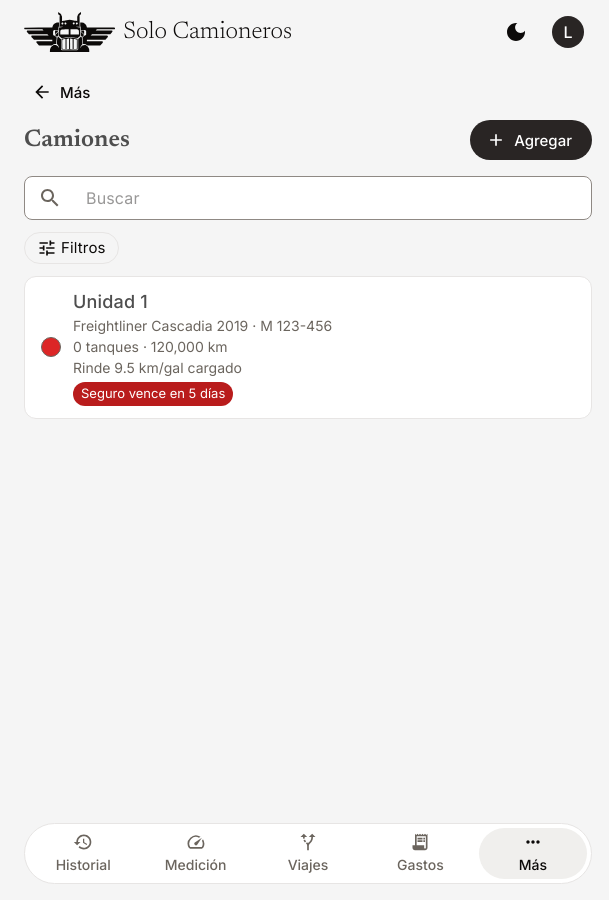
Test: trucks and trailers say when their insurance is due, not when archived
This screenshot has width=609, height=900.
Expected: the button with aria-label "Camión Unidad 1, Seguro vence en 5 días" is shown, x1=24 y1=276 x2=592 y2=419
Expected: the text "Seguro vencido" is not shown
Click the button "Más": (63, 92) x1=16 y1=72 x2=110 y2=112
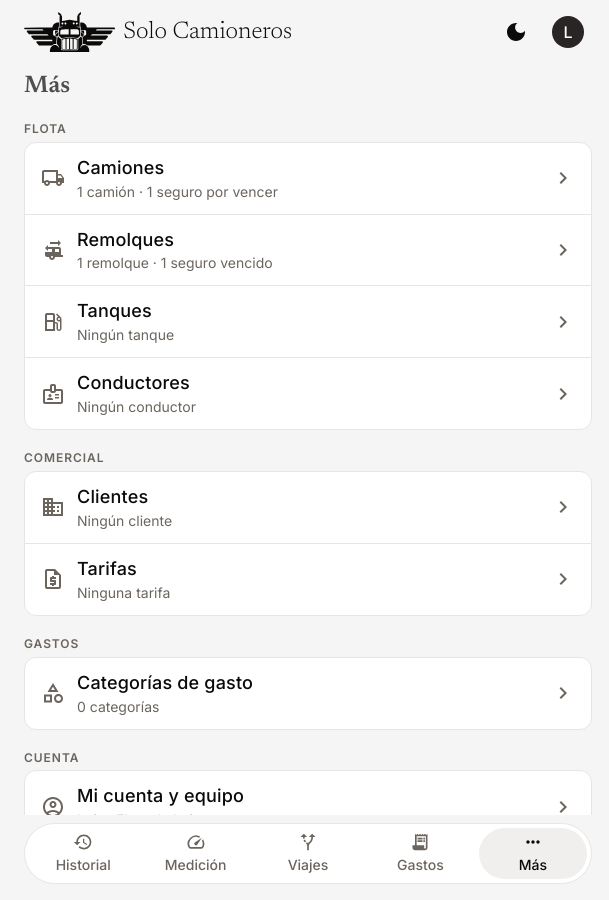
Click the link "Remolques 1 remolque · 1 seguro vencido": (126, 239) x1=25 y1=214 x2=591 y2=285
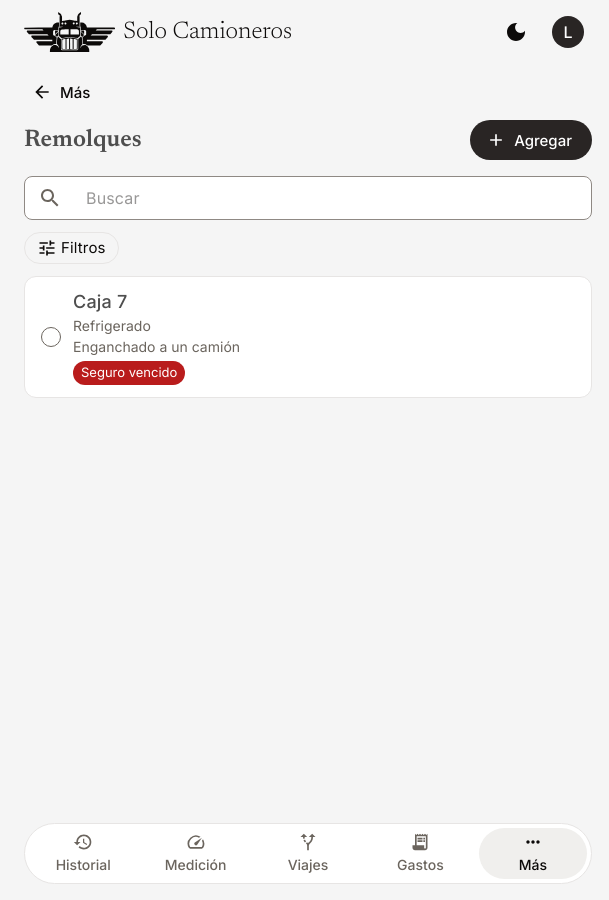
Expected: the text "Seguro vencido" is shown, x1=73 y1=363 x2=185 y2=383
Expected: the heading "Remolques" is shown, x1=24 y1=126 x2=142 y2=154
